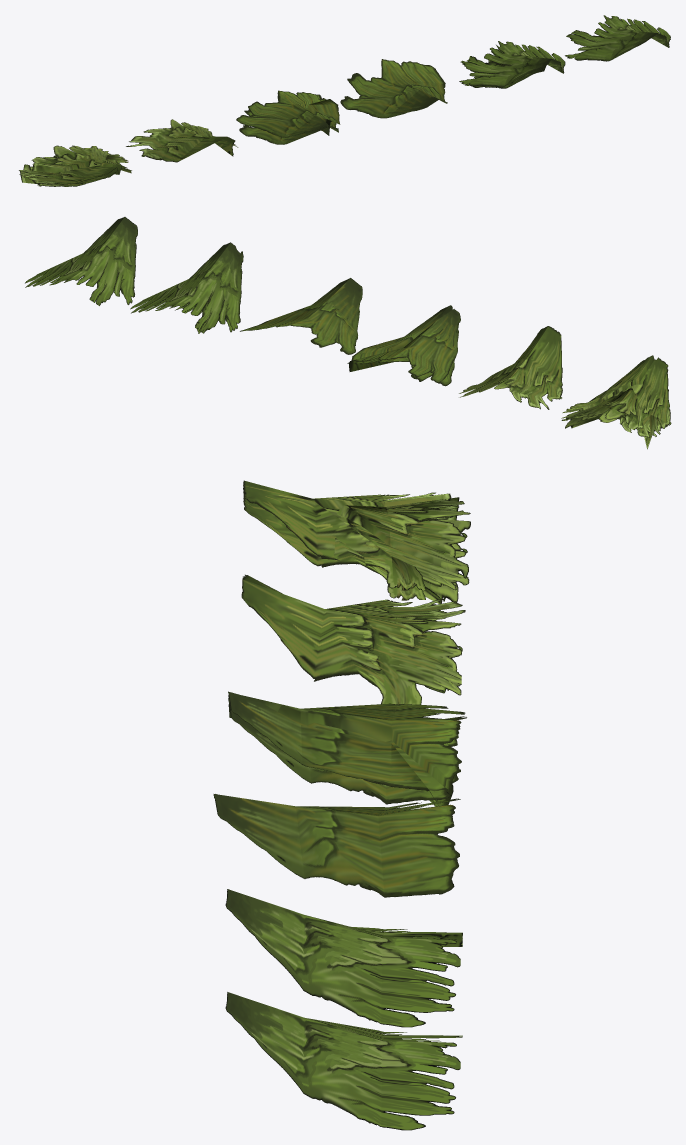
The model's file is LeavesWithRivers.fbx.
3 renders of one model, top to bottom at view 1: azimuth 30°, elevation 25°; view 2: azimuth 150°, elevation 25°; view 3: azimuth 270°, elevation 25°, orthographic. The views are drawn at different scales.
Parts seen in each view (by area): view 1: Leaf_3, Leaf_with_River_2, Leaf_1, Leaf_with_River_3, Leaf_5, Leaf_with_River_1, River_2, River_1, River_3; view 2: Leaf_1, Leaf_with_River_2, Leaf_with_River_3, Leaf_with_River_1, Leaf_5, Leaf_3, River_3, River_1, River_2; view 3: Leaf_3, Leaf_with_River_1, Leaf_1, Leaf_5, Leaf_with_River_2, Leaf_with_River_3, River_3, River_2.
Part boxes in pixels (<box>): Leaf_3: <box>340,59,447,118</box>; Leaf_with_River_2: <box>236,90,340,137</box>; Leaf_1: <box>565,15,670,61</box>; Leaf_with_River_3: <box>19,145,127,184</box>; Leaf_5: <box>126,119,238,162</box>; Leaf_with_River_1: <box>459,41,565,87</box>; River_2: <box>239,95,338,144</box>; River_1: <box>462,45,549,88</box>; River_3: <box>23,148,131,186</box>; Leaf_1: <box>25,217,137,305</box>; Leaf_with_River_2: <box>349,305,460,382</box>; Leaf_with_River_3: <box>565,355,671,449</box>; Leaf_with_River_1: <box>130,242,243,333</box>; Leaf_5: <box>459,326,562,409</box>; Leaf_3: <box>240,278,362,354</box>; River_3: <box>561,359,667,437</box>; River_1: <box>175,249,239,333</box>; River_2: <box>347,324,458,386</box>; Leaf_3: <box>213,794,460,897</box>; Leaf_with_River_1: <box>225,889,462,1027</box>; Leaf_1: <box>225,992,462,1130</box>; Leaf_5: <box>241,574,465,704</box>; Leaf_with_River_2: <box>228,691,465,806</box>; Leaf_with_River_3: <box>243,480,470,603</box>; River_3: <box>243,487,470,600</box>; River_2: <box>228,698,466,804</box>.
Bounding box in the file's own units: 24.94 × 1.99 × 4.41.
